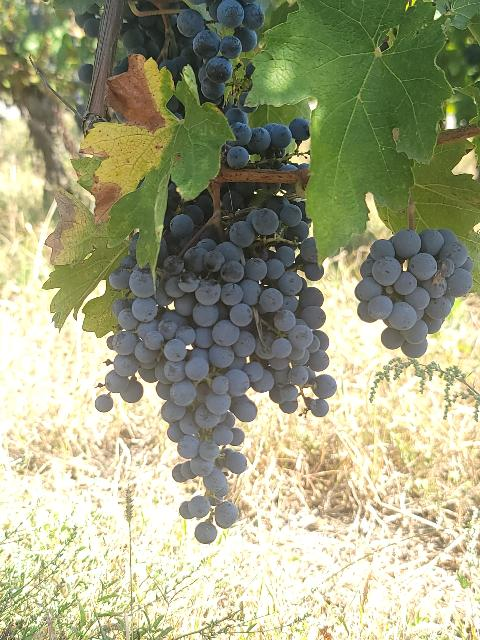grapes: (162, 239, 265, 528), (244, 195, 336, 416), (355, 229, 472, 359), (106, 255, 164, 402)
